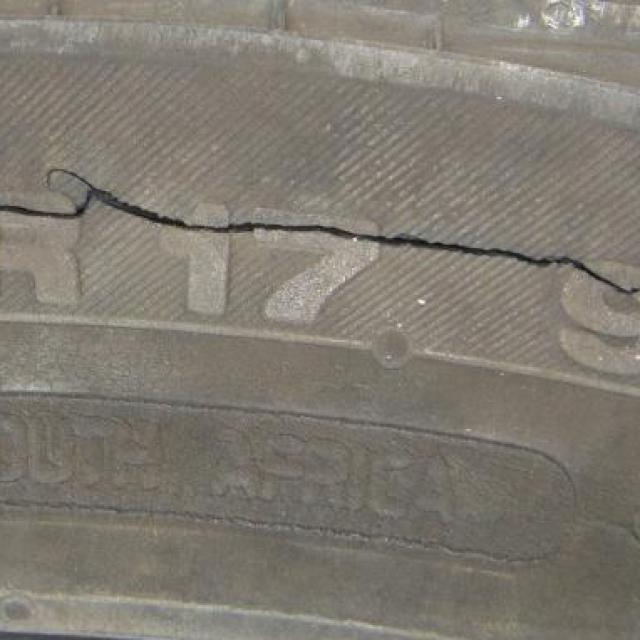Cracks: (0, 143, 638, 312)
